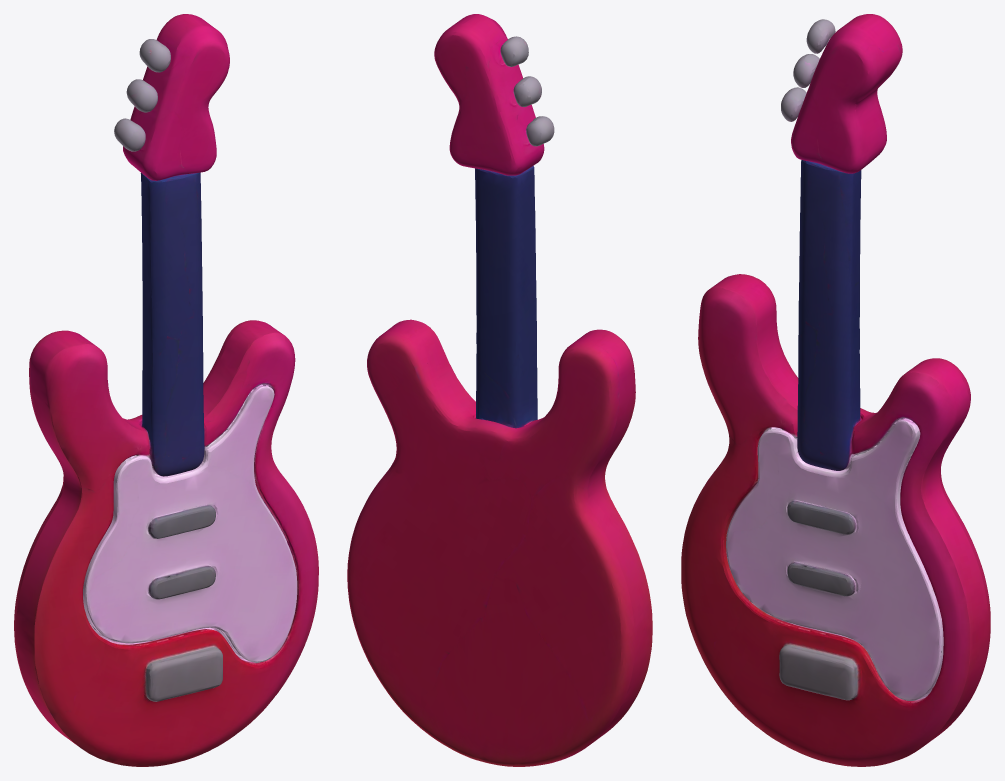
Rendered from guitar.glb.
3 views of the same model, side by side, from view 1: azimuth 30°, elevation 25°; view 2: azimuth 150°, elevation 25°; view 3: azimuth 330°, elevation 25° (orthographic).
Visible parts, largest first — view 1: model; view 2: model; view 3: model.
Boxes of the visible parts, bbox=[...] form: model: bbox=[14, 14, 318, 766]; model: bbox=[347, 14, 652, 766]; model: bbox=[681, 14, 990, 766].
Size of the model in its own units: 0.4087 by 1 by 0.09.
1 material, 1 textured.
